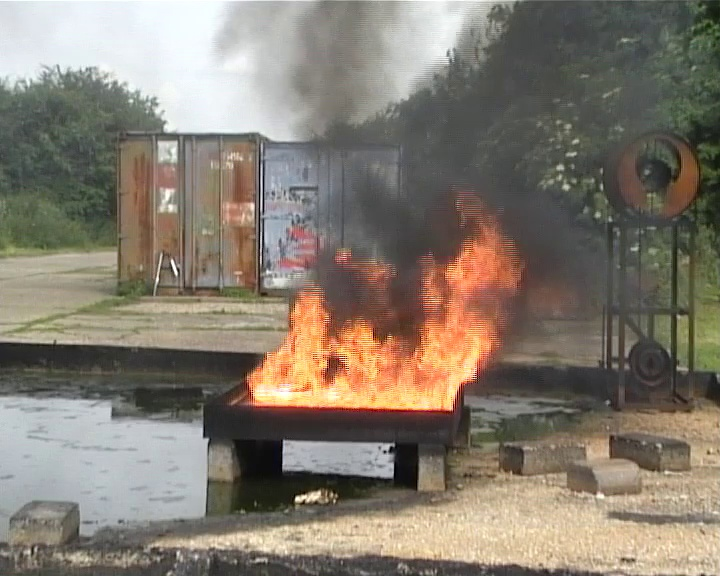fire: (252, 236, 517, 407)
